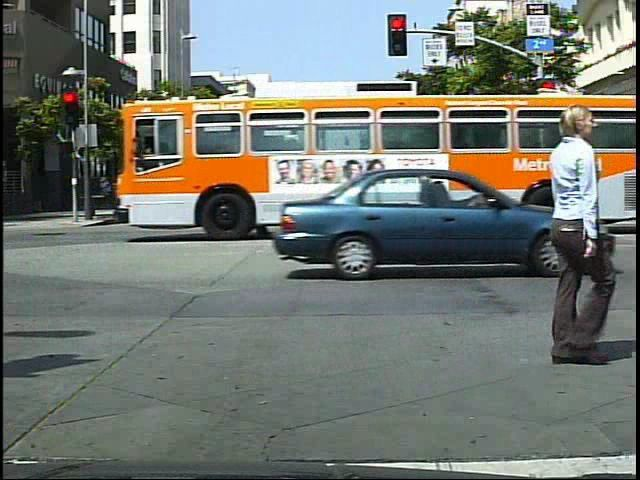person: (513, 93, 615, 396), (304, 165, 336, 229), (210, 167, 239, 233), (320, 166, 349, 230), (549, 160, 572, 211)
